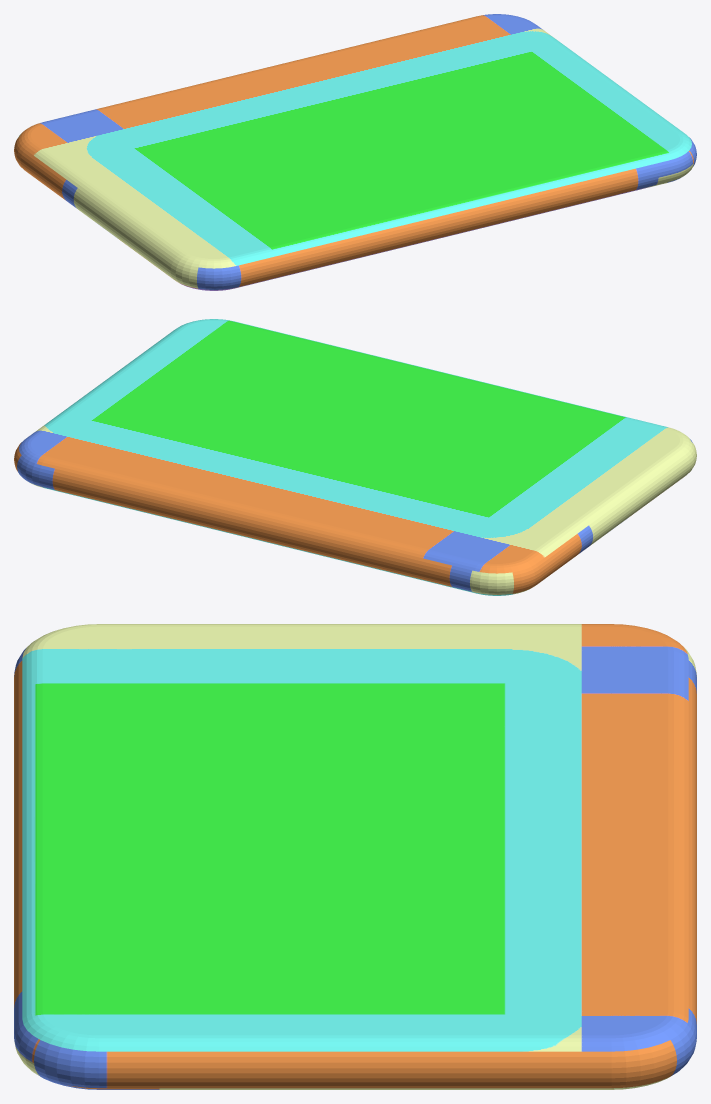
The model's file is NewTileStyle_center.fbx.
3 views of the same model, one above another, from view 1: azimuth 30°, elevation 25°; view 2: azimuth 150°, elevation 25°; view 3: azimuth 270°, elevation 25° (orthographic). The views are drawn at different scales.
Parts seen in each view (by area): view 1: Rectangle; view 2: Rectangle; view 3: Rectangle.
Boxes of the visible parts, x1,y1,x2,y2 form: Rectangle: (14,14,696,290); Rectangle: (14,319,696,595); Rectangle: (14,624,696,1089).
Size of the model in its own units: 300 by 16.74 by 200.
